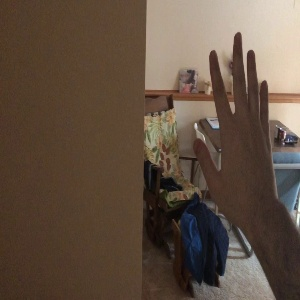hand: (193, 32, 277, 204)
